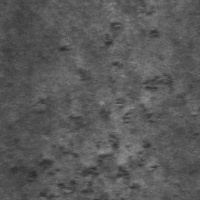rolled-in_scale: (22, 89, 165, 199), (103, 0, 160, 47)
